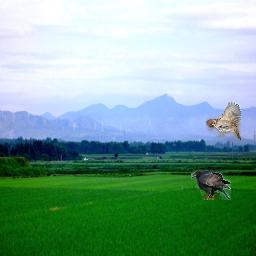Crow: (191, 170, 231, 200)
Sparrow: (206, 102, 241, 141)
